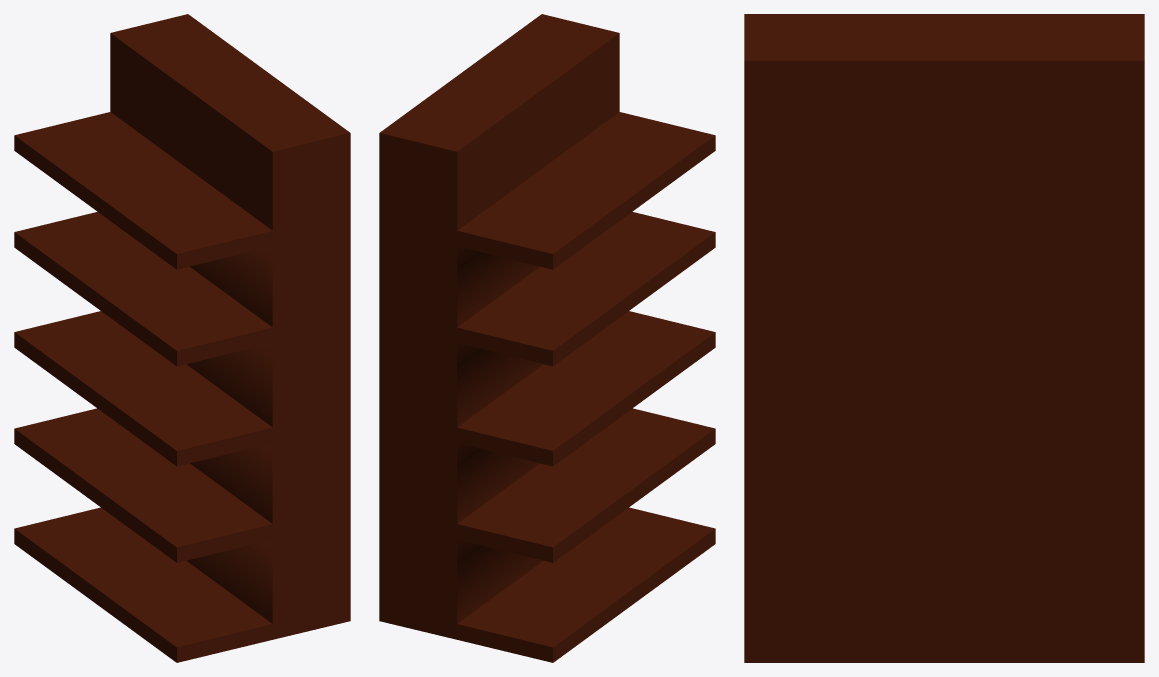
File: Shelf.fbx
3 views of the same model, side by side, from view 1: azimuth 30°, elevation 25°; view 2: azimuth 150°, elevation 25°; view 3: azimuth 270°, elevation 25° (orthographic). The views are drawn at different scales.
Parts seen in each view (by area): view 1: Box001; view 2: Box001; view 3: Box001.
Boxes of the visible parts, <box> form: Box001: <box>14,14,350,662</box>; Box001: <box>379,14,715,662</box>; Box001: <box>744,14,1144,662</box>.
Bounding box in the file's own units: 30.4 × 81.68 × 49.24.
